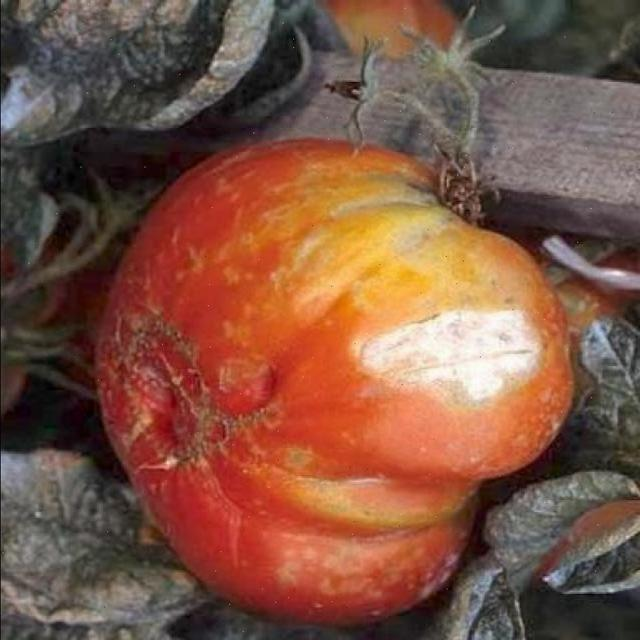Sunscald Fruit: (220, 204, 370, 276)
